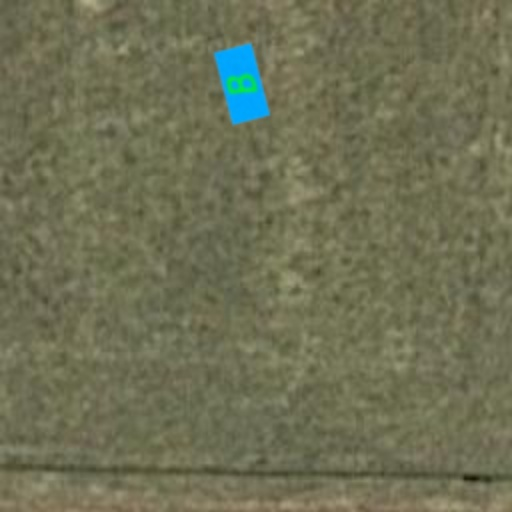rectangle: (196, 38, 288, 130)
